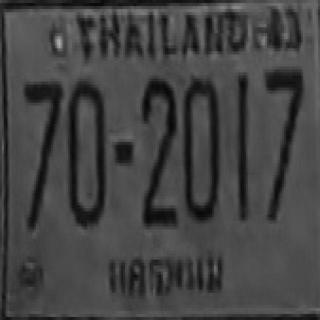N00: (66, 78, 104, 224), (182, 76, 218, 218)
N01: (235, 71, 246, 219)
N02: (141, 75, 175, 224)
N07: (263, 66, 301, 218), (23, 78, 61, 226)
P29: (103, 246, 228, 309)
